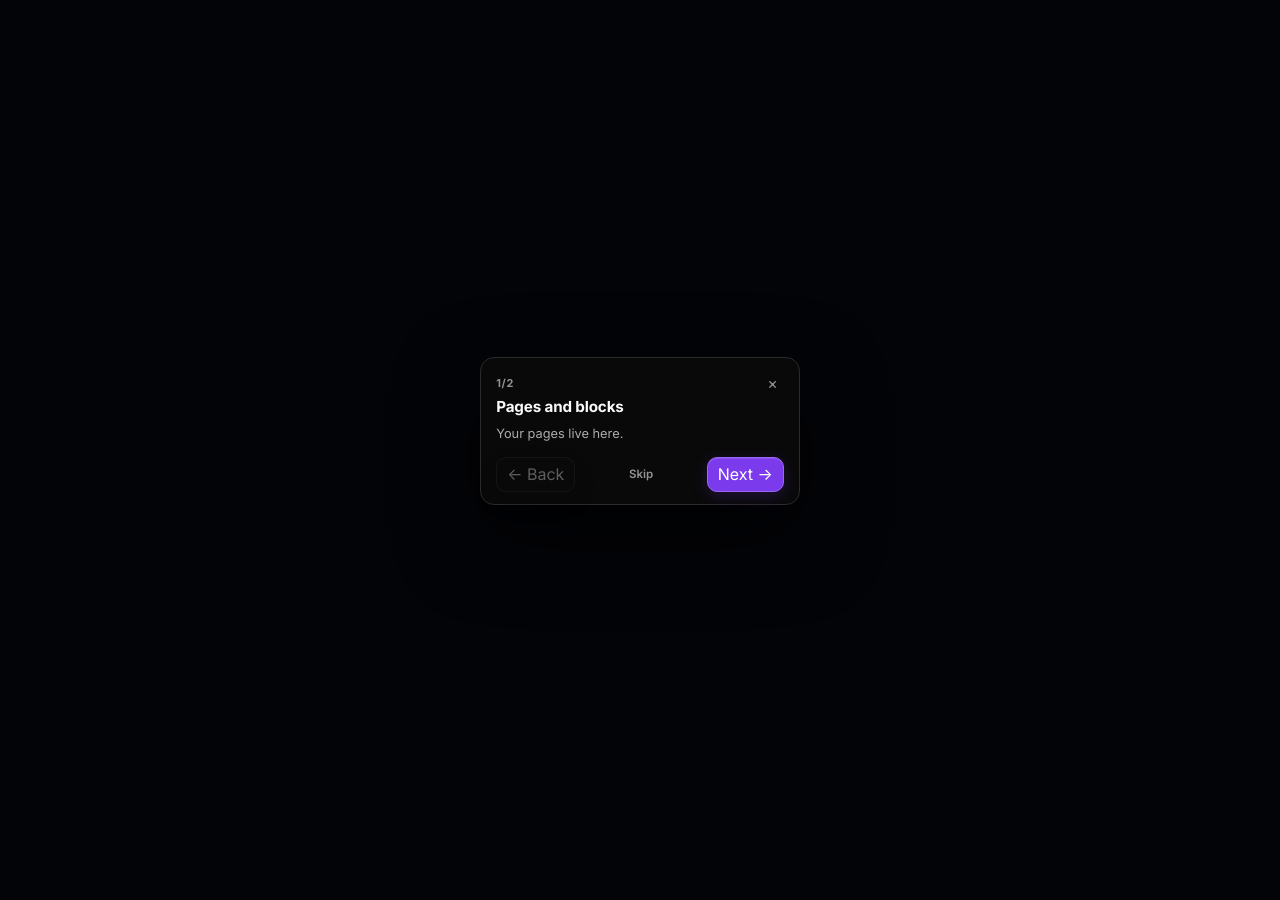
Test: EditorTour › walks forward and back through the steps that exist here
expect the text "1/2" is shown: met, box [496, 375, 514, 391]
expect the heading "Pages and blocks" is shown: met, box [496, 397, 624, 416]
Click the button "Next →" at (745, 474), box [707, 457, 784, 492]
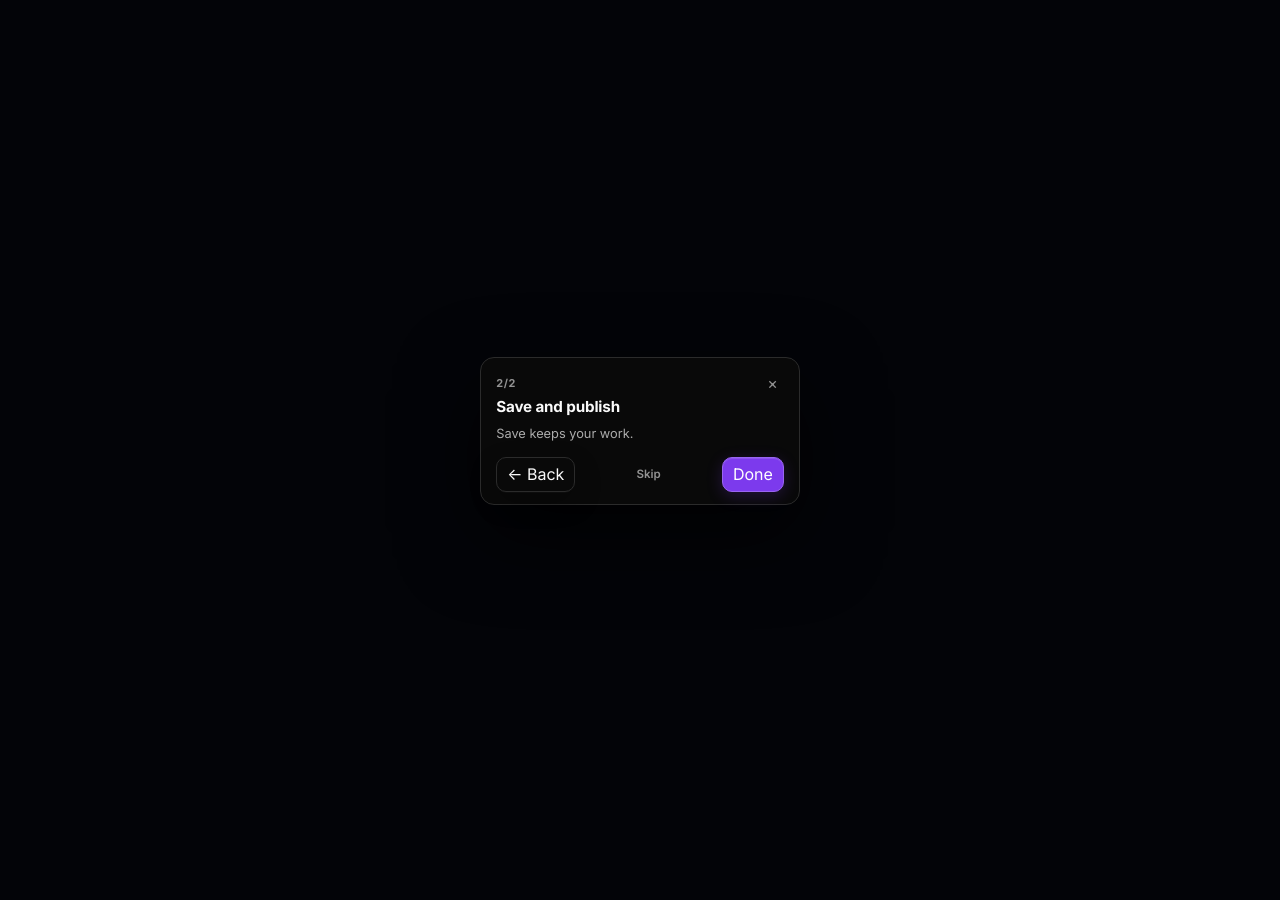
expect the text "2/2" is shown: met, box [496, 375, 516, 391]
expect the heading "Save and publish" is shown: met, box [496, 397, 620, 416]
Click the button "← Back" at (536, 474), box [496, 457, 575, 492]
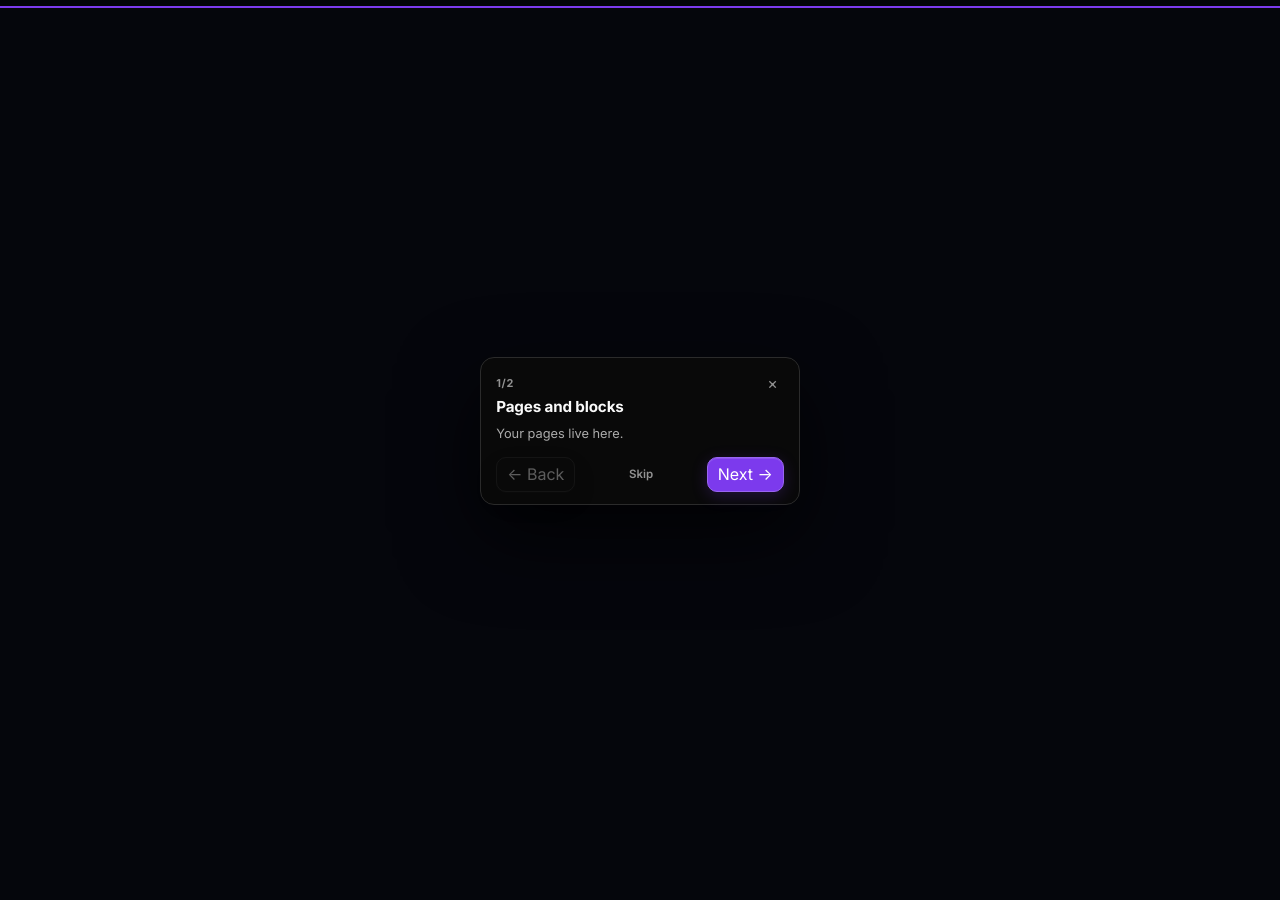
expect the heading "Pages and blocks" is shown: met, box [496, 397, 624, 416]
expect the button "← Back" is disabled: met, box [496, 457, 575, 492]
